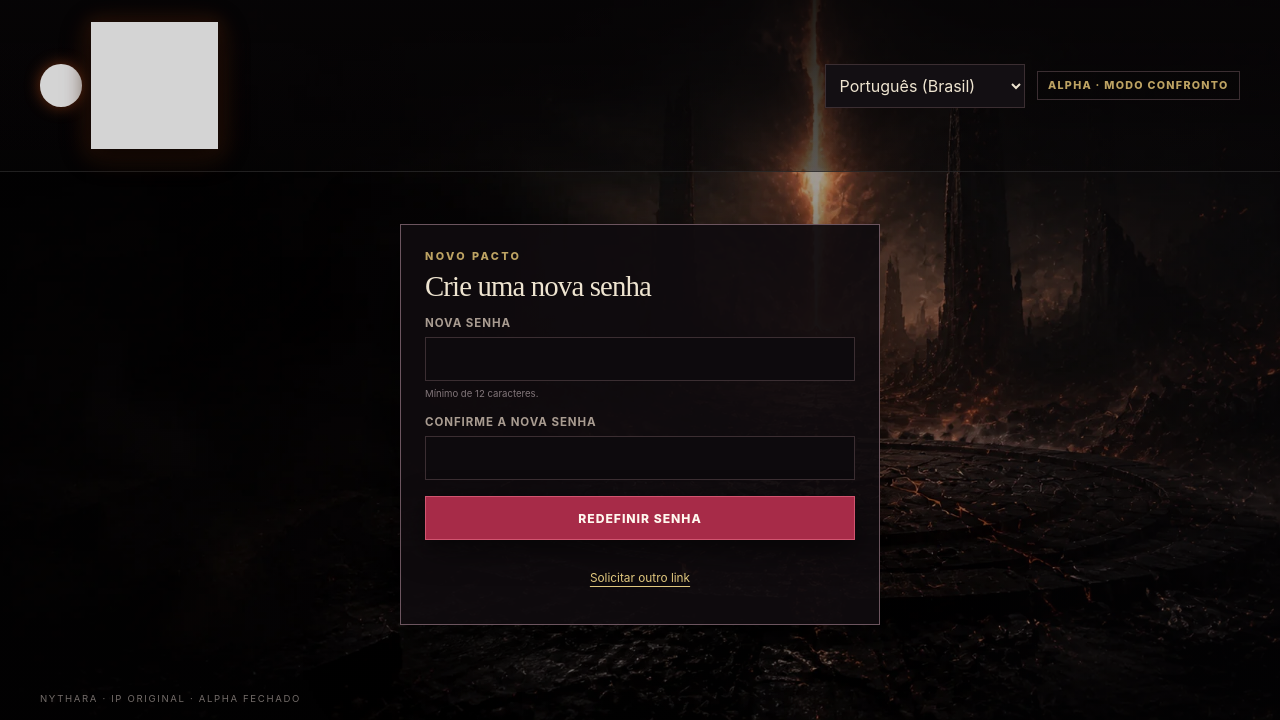
recuperação de senha › bloqueia senhas diferentes sem enviar o token
In the password field labelled "Nova senha Mínimo de 12 caracteres.": (640, 359) [425,337,855,381], type "senha-segura-2026"
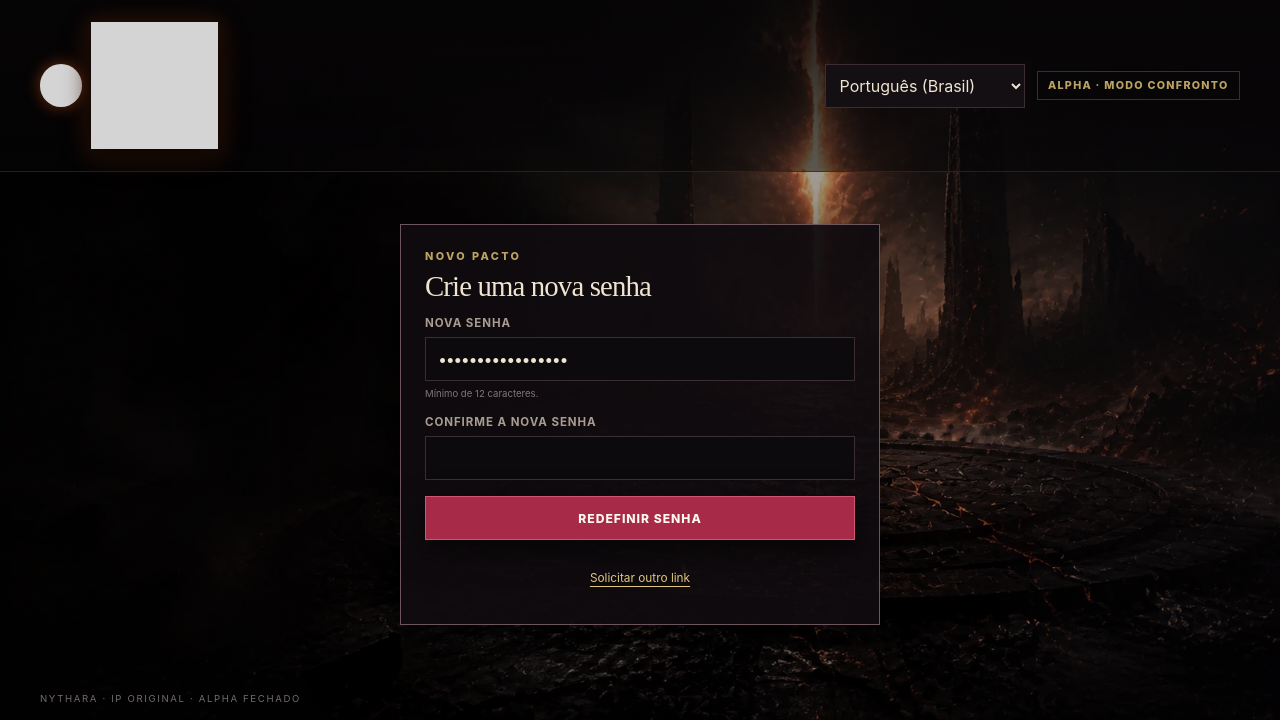
In the password field labelled "Confirme a nova senha": (640, 458) [425,436,855,480], type "senha-diferente-2026"
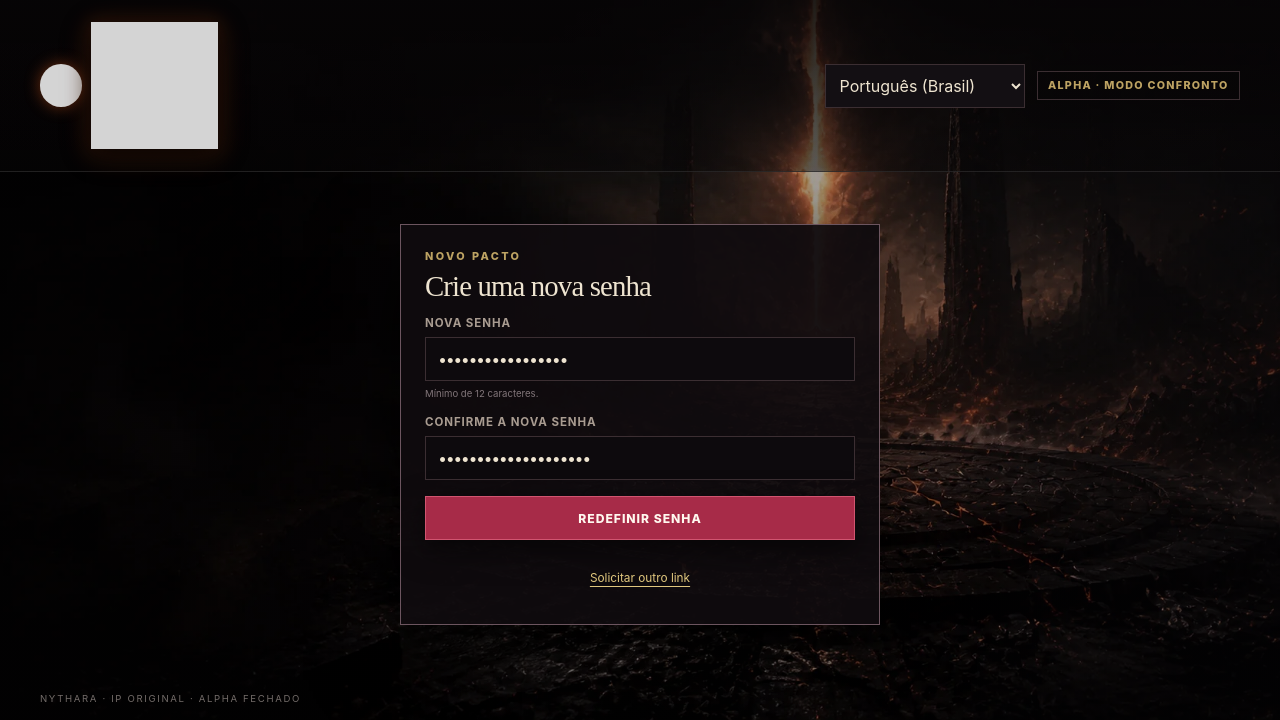
Click the button "Redefinir senha": (640, 518) [425,496,855,540]
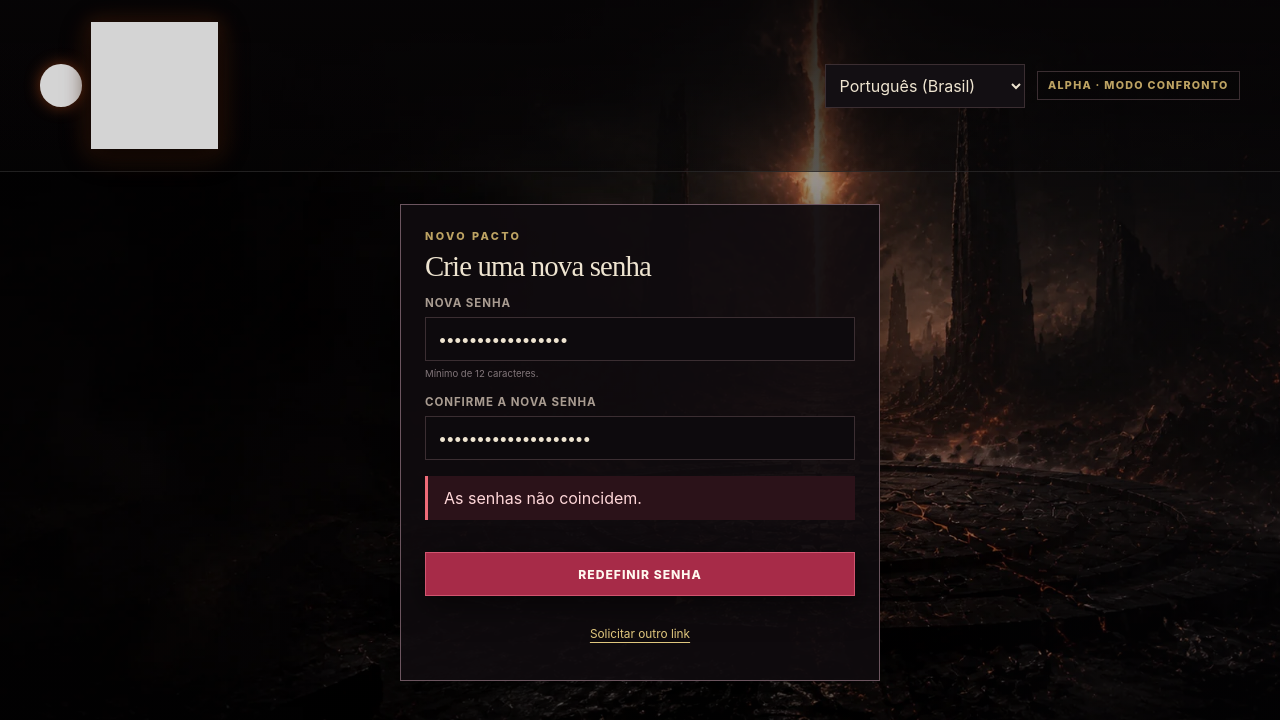
Result: the message reads "As senhas não coincidem." at [444,488,642,508]
